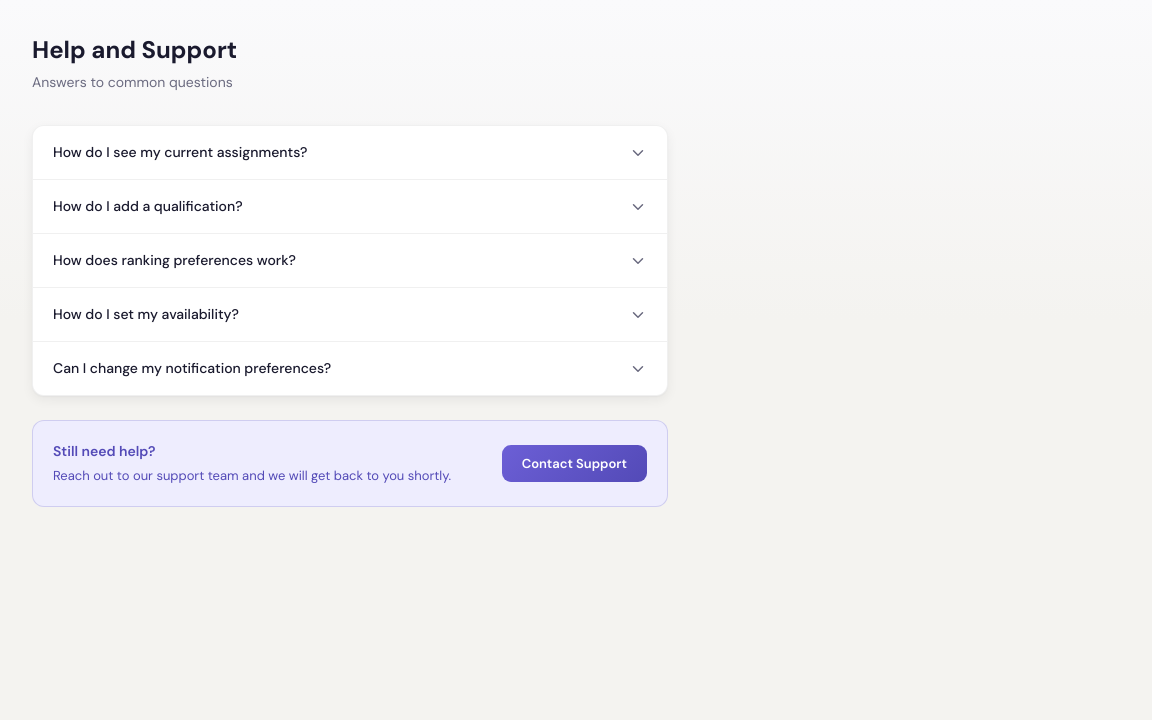
InstructorHelp › keeps FAQ answers collapsed by default and expands one on click
Check: the text "drag sections from the Available list" is not shown
Click the button "How does ranking preferences work?": coordinates (174, 260) [33, 234, 667, 287]
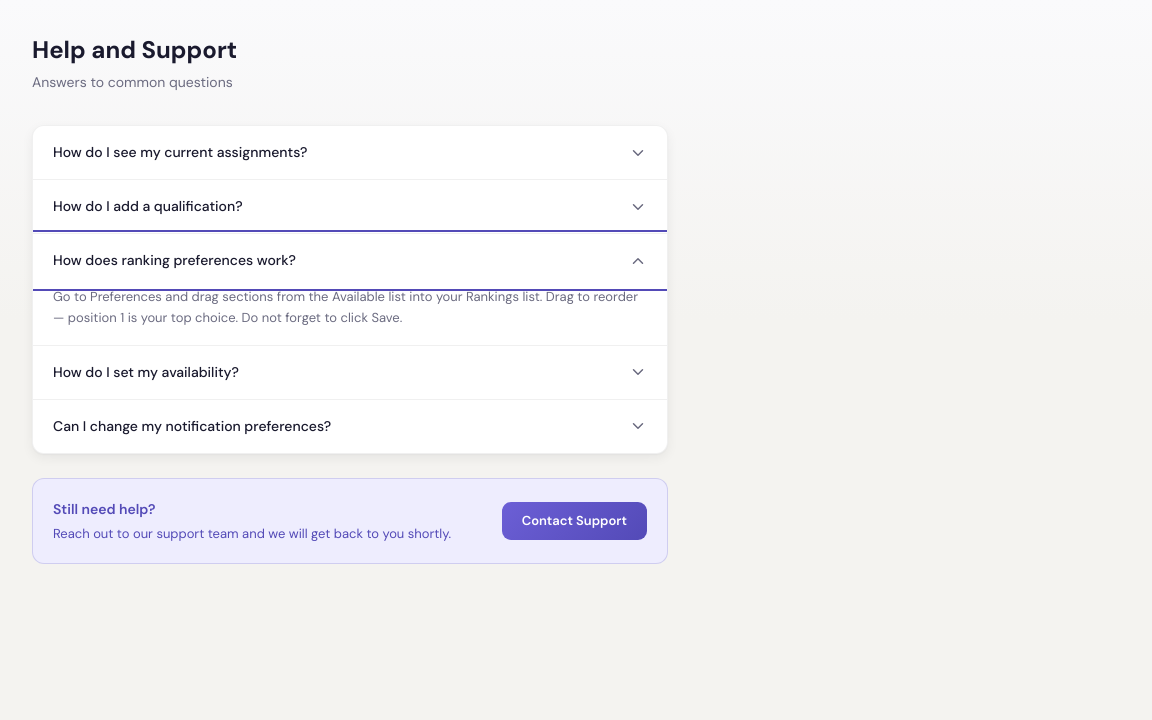
Check: the text "drag sections from the Available list" is shown, box [53, 288, 638, 326]
